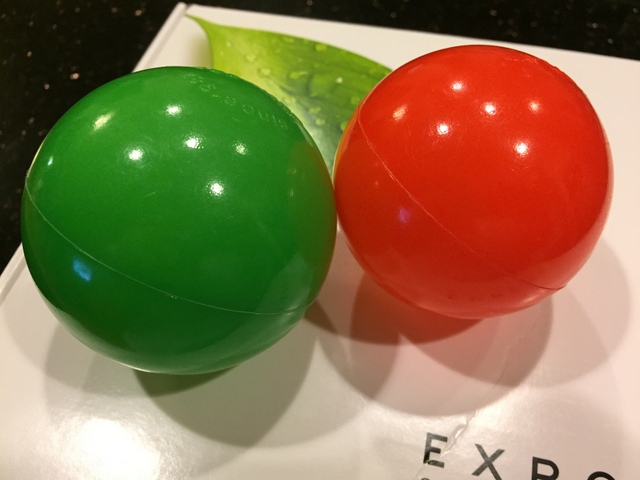Ball: (331, 43, 615, 325)
